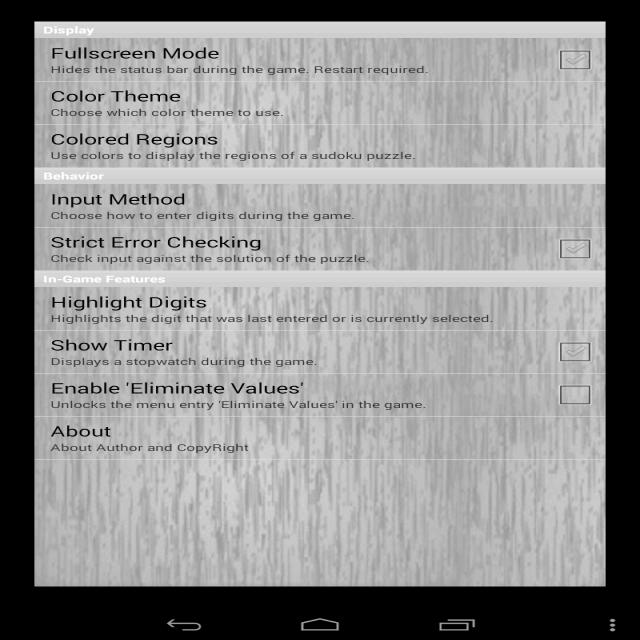CheckBox: (550, 338, 598, 368), (552, 44, 598, 74), (554, 235, 598, 262), (554, 381, 598, 408)
TextView: (46, 148, 417, 166), (48, 249, 382, 265), (43, 376, 314, 395), (42, 44, 254, 62), (40, 81, 196, 105), (42, 188, 214, 208), (47, 292, 211, 312)
